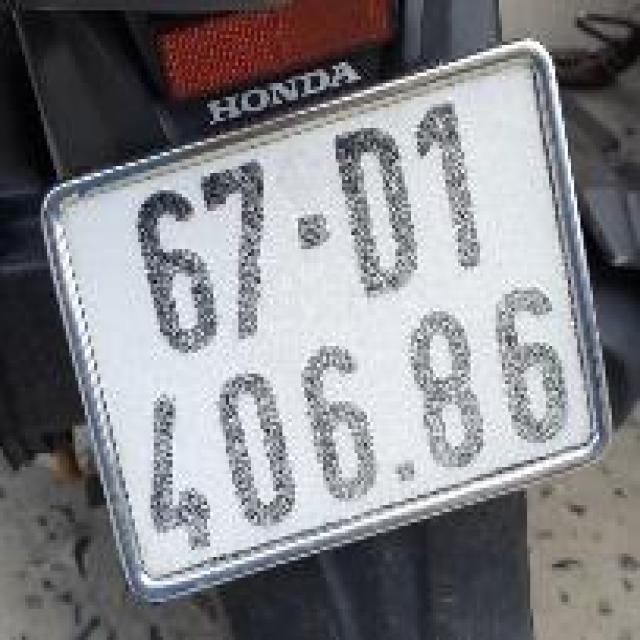0: (202, 357, 310, 542)
1: (407, 90, 493, 285)
4: (121, 382, 223, 567)
6: (121, 176, 229, 371), (291, 330, 391, 514), (480, 271, 577, 457)
7: (194, 151, 301, 350)
8: (395, 296, 495, 480)
D: (324, 109, 432, 313)
